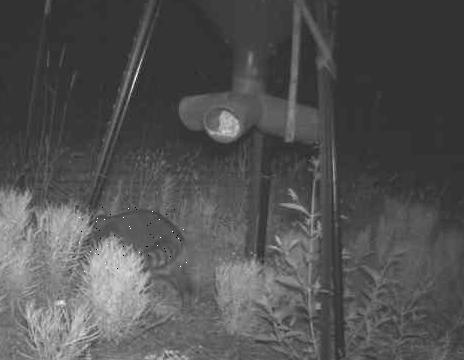Raccoon: (80, 207, 191, 273)
